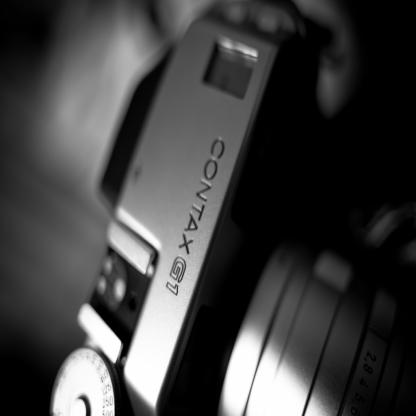Camera: (37, 1, 405, 416)
